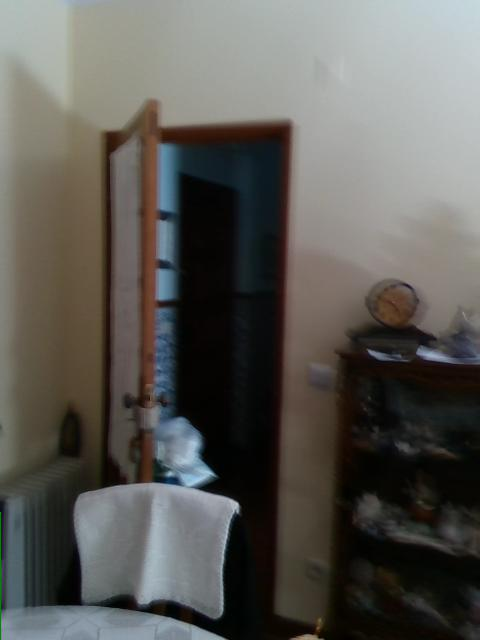semi_door: (98, 96, 293, 623)
